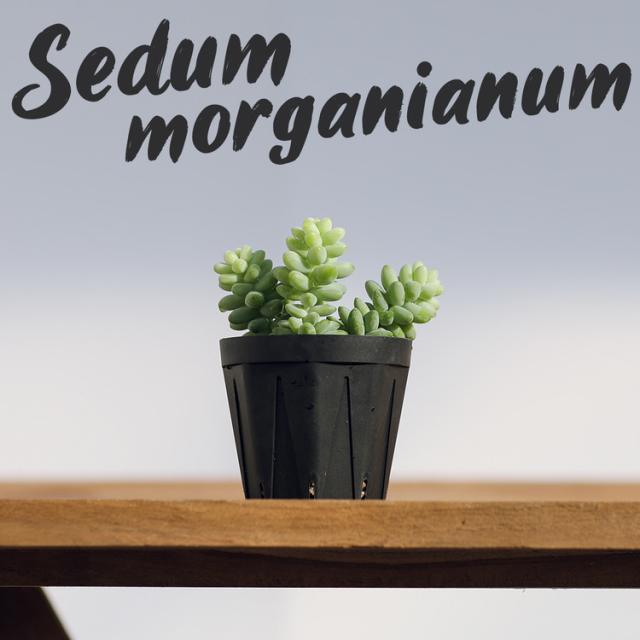Sedum: (272, 218, 365, 335), (338, 261, 444, 339), (214, 245, 288, 335)
